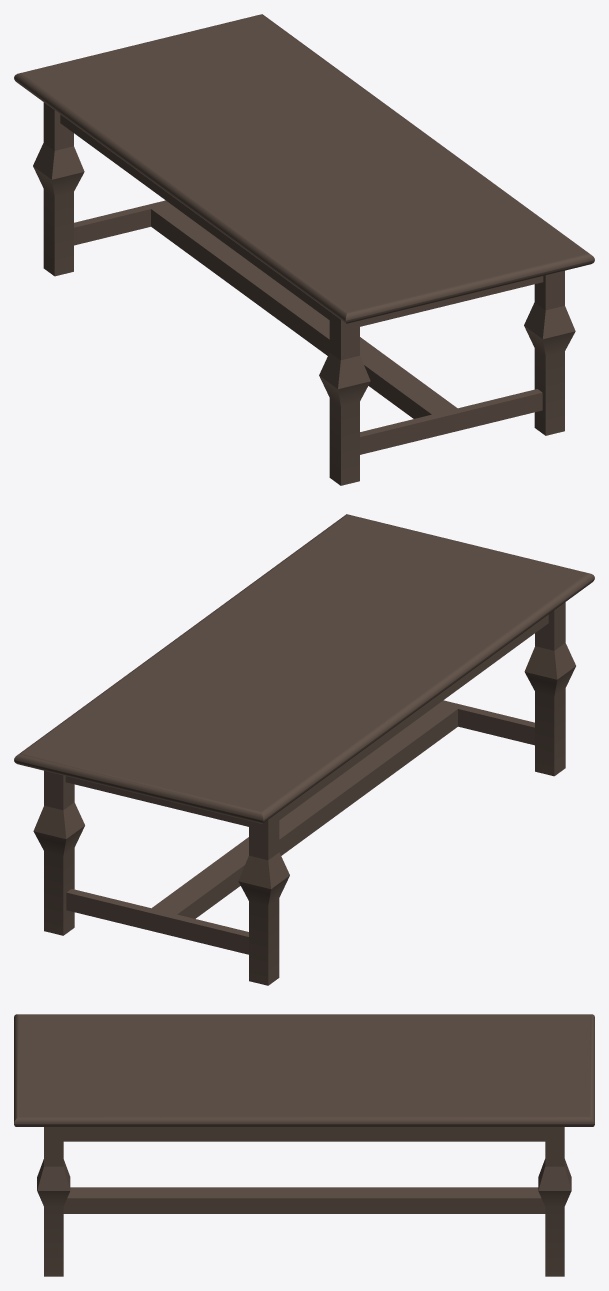
File: GrandeTable_68.fbx
3 views of the same model, one above another, from view 1: azimuth 30°, elevation 25°; view 2: azimuth 150°, elevation 25°; view 3: azimuth 270°, elevation 25° (orthographic). The views are drawn at different scales.
Visible parts, largest first — view 1: pCube105, pCube107, polySurface28, polySurface29, polySurface31; view 2: pCube105, pCube107, polySurface29, polySurface28, polySurface30; view 3: pCube105, pCube107, polySurface31, polySurface30.
Part boxes in pixels (x1,y1,x2,y2): pCube105: [14, 14, 594, 326]; pCube107: [74, 200, 542, 454]; polySurface28: [319, 312, 370, 485]; polySurface29: [33, 102, 84, 276]; polySurface31: [524, 270, 575, 435]; pCube105: [14, 514, 594, 826]; pCube107: [66, 700, 534, 954]; polySurface29: [238, 812, 289, 985]; polySurface28: [524, 602, 575, 776]; polySurface30: [33, 770, 84, 935]; pCube105: [14, 1014, 594, 1141]; pCube107: [63, 1187, 545, 1213]; polySurface31: [37, 1127, 70, 1276]; polySurface30: [538, 1127, 571, 1276].
Size of the model in its own units: 56.13 by 40.09 by 129.
